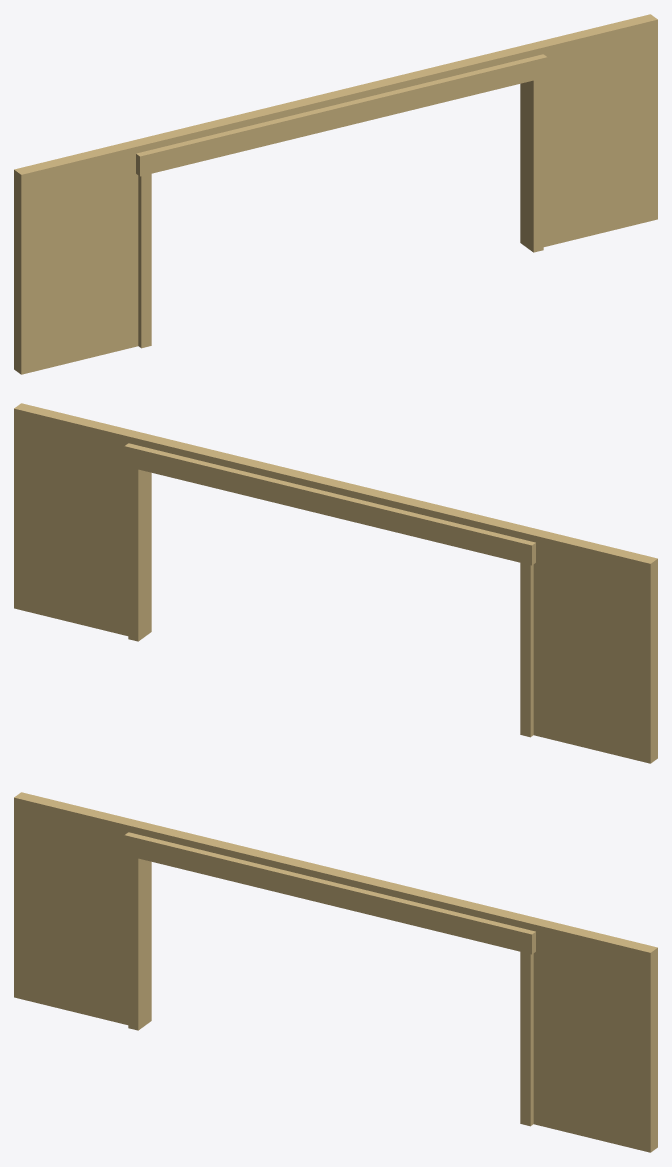
File: mod_wall_garage.glb
3 views of the same model, one above another, from view 1: azimuth 30°, elevation 25°; view 2: azimuth 150°, elevation 25°; view 3: azimuth 330°, elevation 25° (orthographic).
Visible parts, largest first — view 1: Mod_WallGarage; view 2: Mod_WallGarage; view 3: Mod_WallGarage.
Boxes of the visible parts, x1,y1,x2,y2 form: Mod_WallGarage: [14, 14, 657, 374]; Mod_WallGarage: [14, 403, 657, 763]; Mod_WallGarage: [14, 792, 657, 1152].
Size of the model in its own units: 10 by 3 by 0.42.
